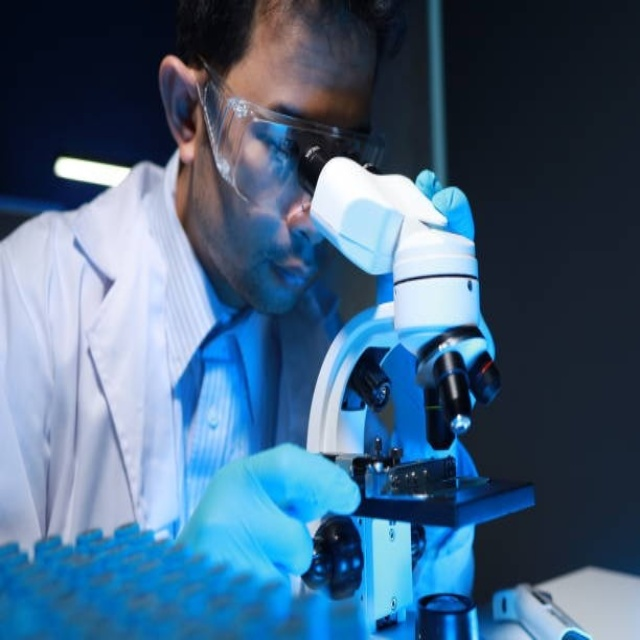Gafas: (194, 56, 385, 212)
Guantes: (176, 441, 364, 582), (415, 168, 475, 244)
Sin_mascara: (254, 234, 318, 312)
